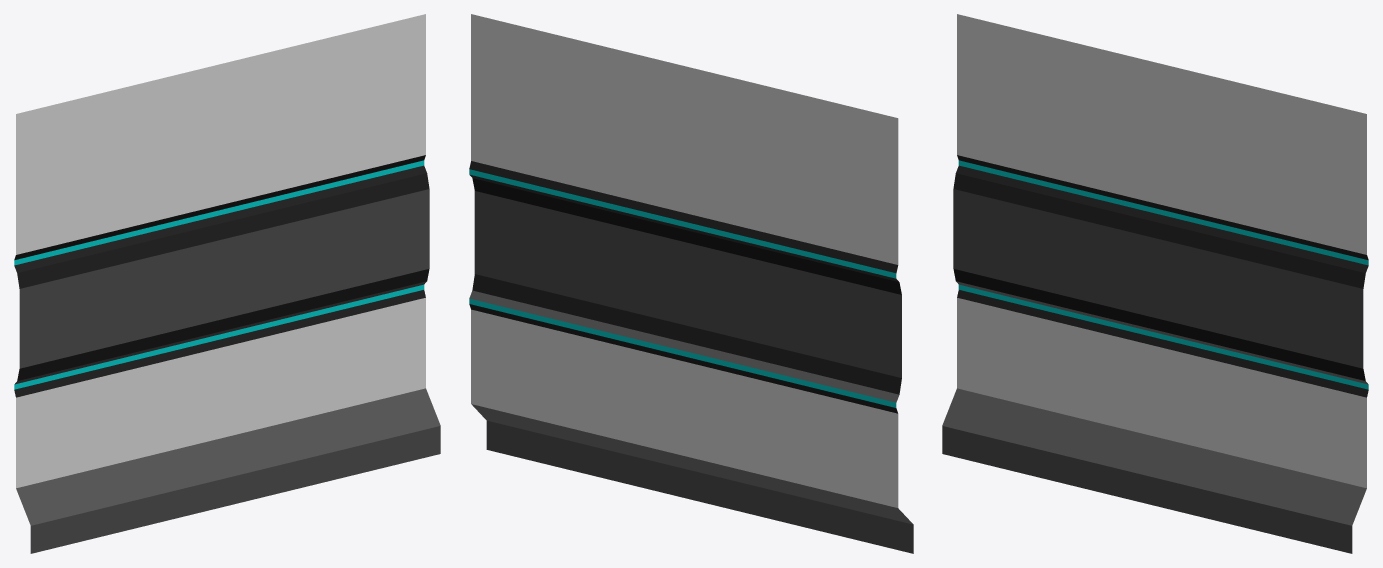
The model's file is base_wall_straight_01.FBX.
3 renders of one model, left to right at view 1: azimuth 30°, elevation 25°; view 2: azimuth 150°, elevation 25°; view 3: azimuth 330°, elevation 25°, orthographic. The views are drawn at different scales.
Parts seen in each view (by area): view 1: base_wall_straight_01; view 2: base_wall_straight_01; view 3: base_wall_straight_01.
Boxes of the visible parts, box(x1,y1,x2,y2) form: base_wall_straight_01: box(14, 14, 440, 553); base_wall_straight_01: box(469, 14, 913, 553); base_wall_straight_01: box(942, 14, 1368, 553).
Size of the model in its own units: 400 by 400 by 28.
